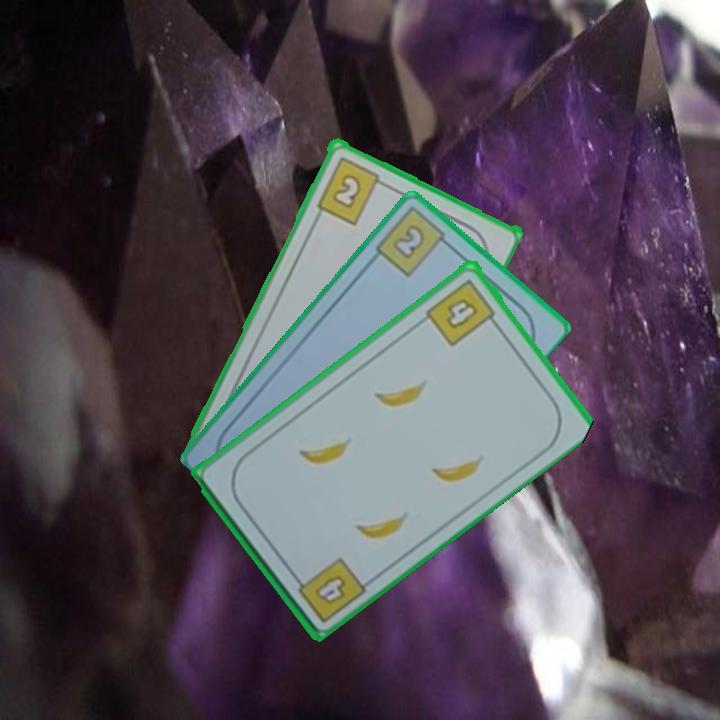2b: (371, 203, 456, 280), (312, 152, 390, 227)
4b: (422, 274, 502, 349), (287, 553, 369, 626)
